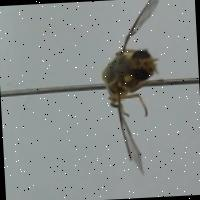Oriental-fruit-fly: (91, 0, 192, 181)
